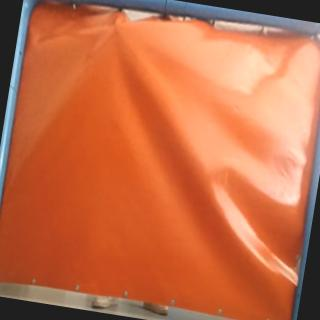Hit-hRxx: (109, 21, 128, 38)
